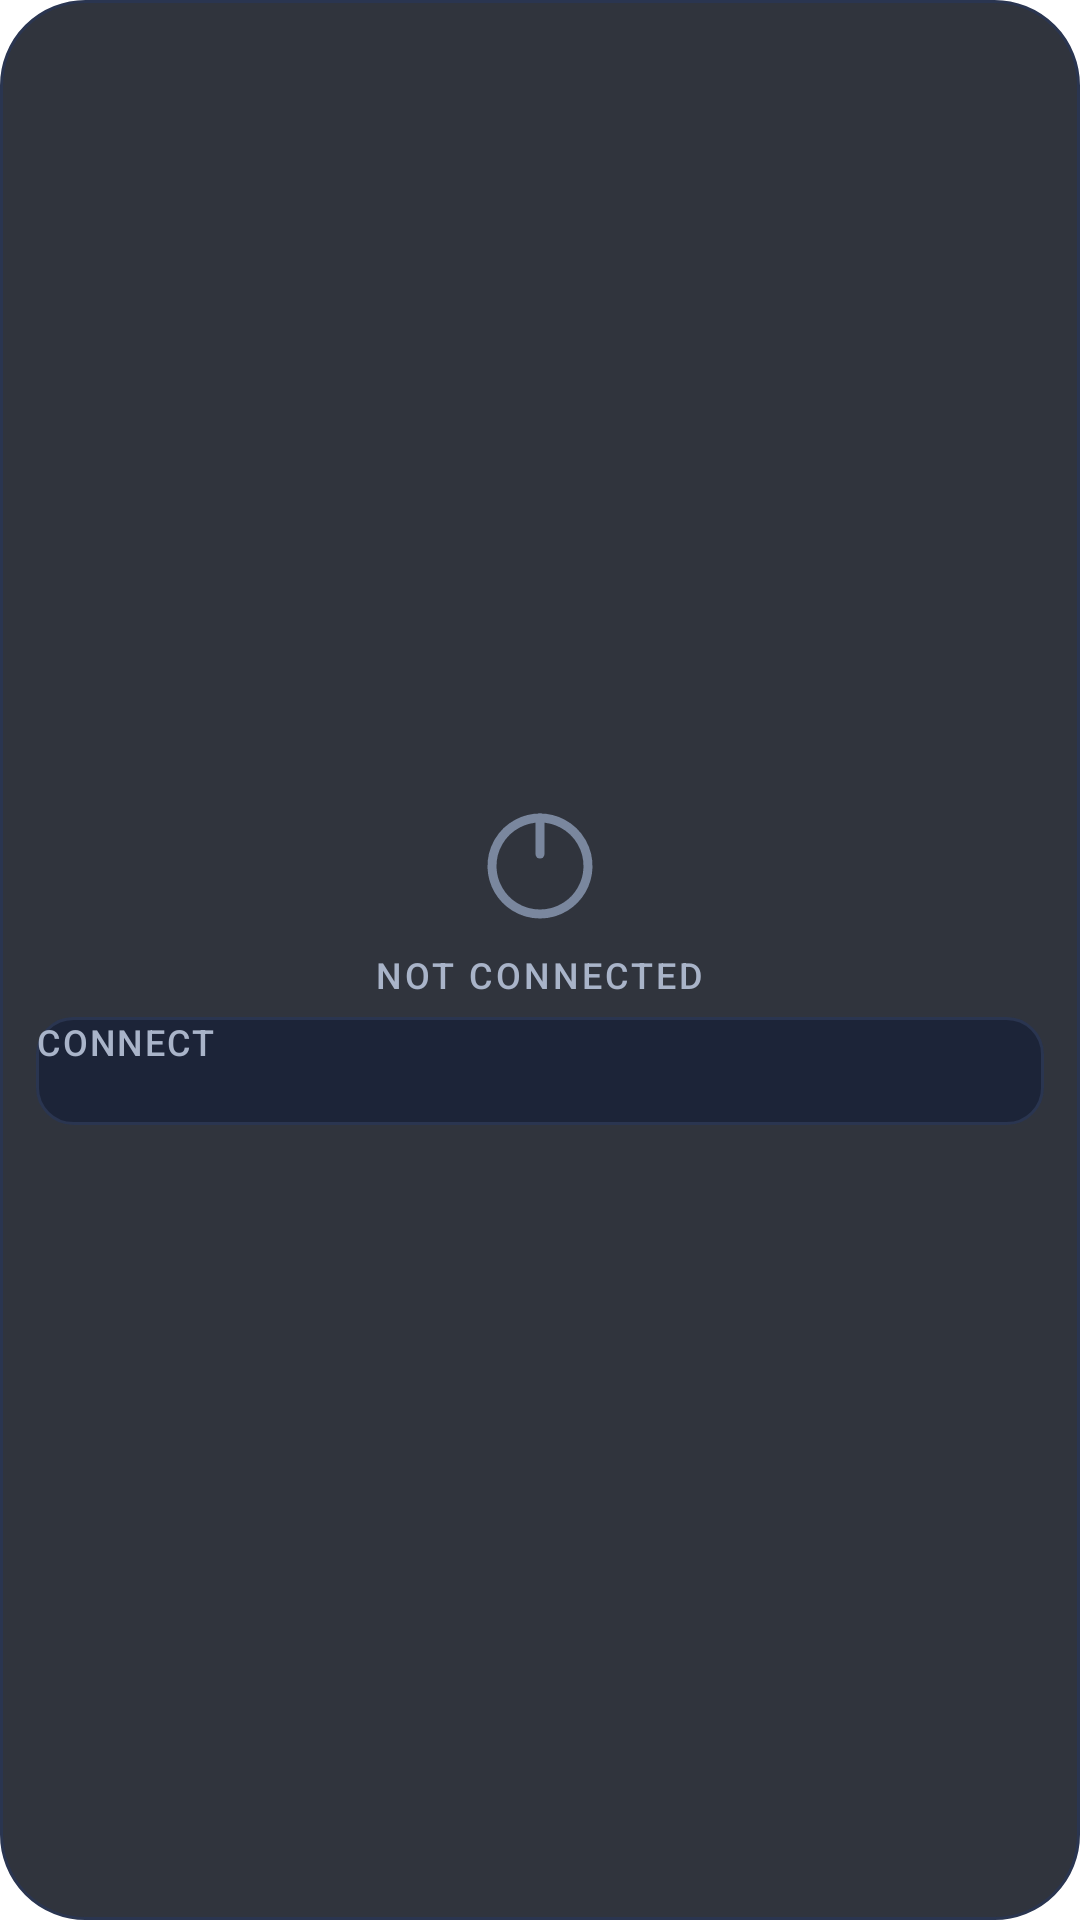

Named icons in this screenshot (1080w x 1920h) and their centers, [x,y]:
Tunnel status, tap to open app: [540,866]
